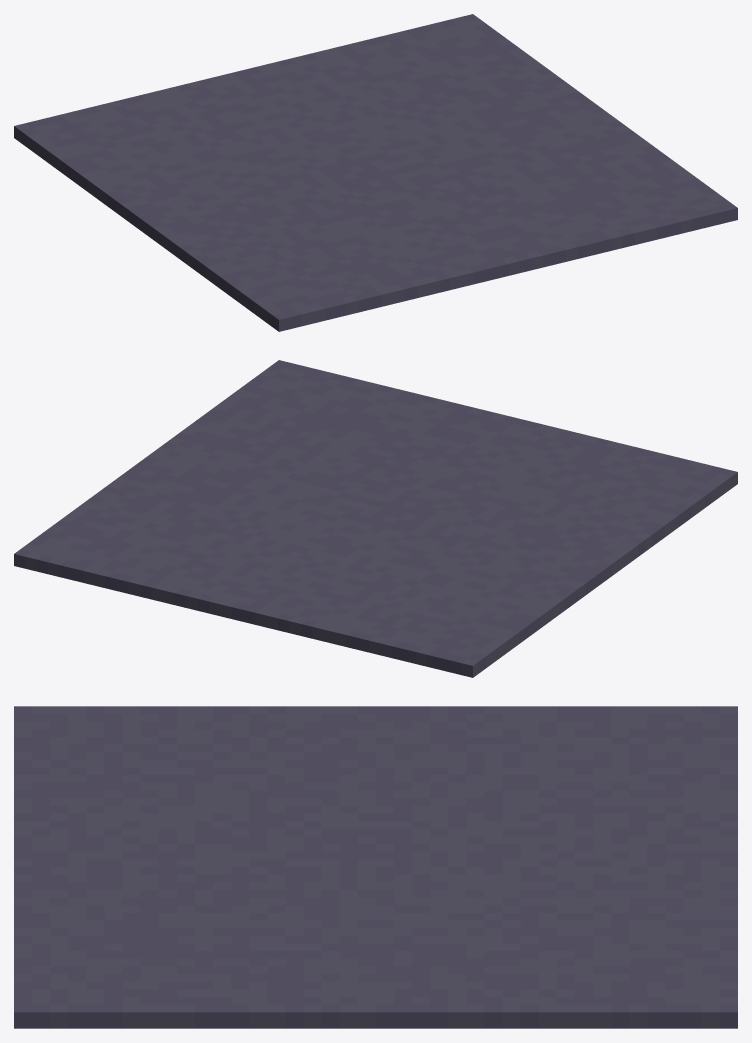
Rendered from floor_01_S.dae.
The picture shows the model from 3 angles, top to bottom: view 1: azimuth 30°, elevation 25°; view 2: azimuth 150°, elevation 25°; view 3: azimuth 270°, elevation 25°; orthographic projection. The views are drawn at different scales.
Visible parts, largest first — view 1: Untitled; view 2: Untitled; view 3: Untitled.
Part boxes in pixels (bbox=[...]): Untitled: bbox=[14, 14, 737, 331]; Untitled: bbox=[14, 360, 737, 677]; Untitled: bbox=[14, 706, 737, 1028].
Size of the model in its own units: 1.2 by 1.2 by 0.03.
1 material, 1 textured.
